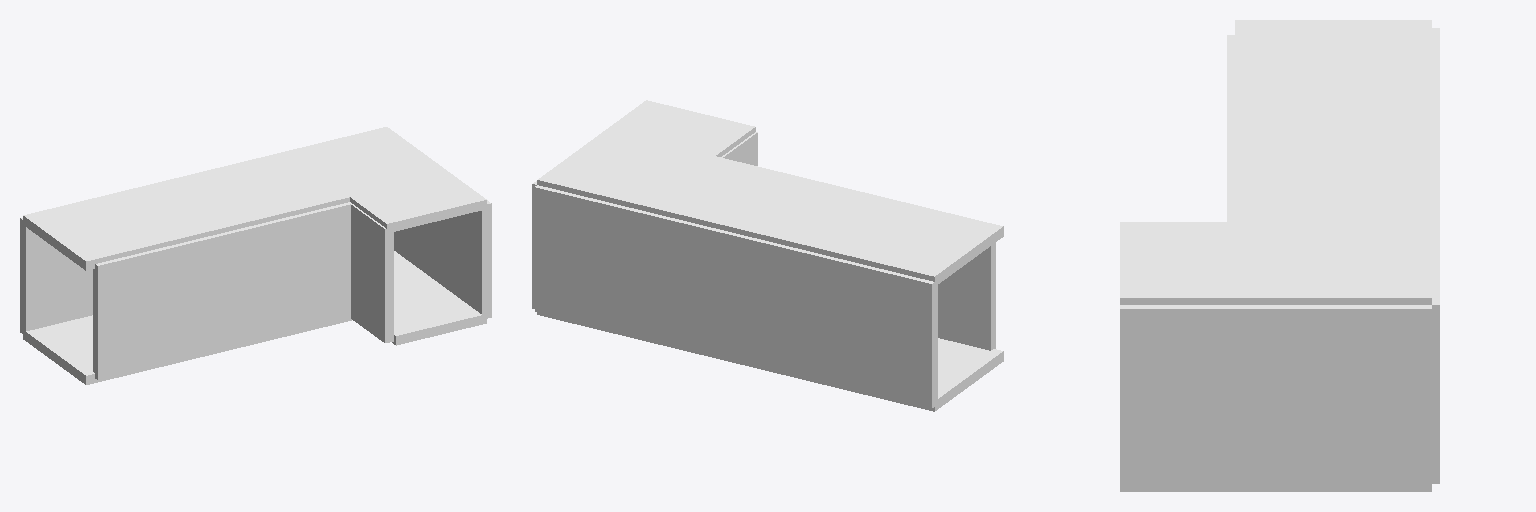
The robot description file, URDF, robot "pipe":
<?xml version="1.0"?>
<robot name="pipe">

  <material name="transparent_white">
      <color rgba="1.0 1.0 1.0 0.7"/>
  </material>

  <material name="red">
      <color rgba="1.0 0.0 0.0 1.0"/>
  </material>

  <link name="pipe">
    <!-- Bottom wall -->
    <visual>
      <origin xyz="0 0 0" rpy="0 0 0"/>
      <geometry>
        <box size="0.4 0.12 0.01"/>
      </geometry>
      <material name="transparent_white"/>
    </visual>
    <collision>
      <origin xyz="0 0 0" rpy="0 0 0"/>
      <geometry>
        <box size="0.4 0.12 0.01"/>
      </geometry>
    </collision>
    
    <!-- Top wall -->
    <visual>
      <origin xyz="0 0 0.12" rpy="0 0 0"/>
      <geometry>
        <box size="0.4 0.12 0.01"/>
      </geometry>
      <material name="transparent_white"/>
    </visual>
    <collision>
      <origin xyz="0 0 0.12" rpy="0 0 0"/>
      <geometry>
        <box size="0.4 0.12 0.01"/>
      </geometry>
    </collision>
    
    <!-- Left wall -->
    <visual>
      <origin xyz="0 0.06 0.06" rpy="0 0 0"/>
      <geometry>
        <box size="0.4 0.01 0.12"/>
      </geometry>
      <material name="transparent_white"/>
    </visual>
    <collision>
      <origin xyz="0 0.06 0.06" rpy="0 0 0"/>
      <geometry>
        <box size="0.4 0.01 0.12"/>
      </geometry>
    </collision>
    
    <!-- Right wall -->
    <visual>
      <origin xyz="-0.05 -0.06 0.06" rpy="0 0 0"/>
      <geometry>
        <box size="0.28 0.01 0.12"/>
      </geometry>
      <material name="transparent_white"/>
    </visual>
    <collision>
      <origin xyz="-0.05 -0.06 0.06" rpy="0 0 0"/>
      <geometry>
        <box size="0.28 0.01 0.12"/>
      </geometry>
    </collision>
    
    <!-- Positive X End wall (blocking the opening) -->
    <visual>
      <origin xyz="0.2 0 0.06" rpy="0 0 0"/>
      <geometry>
        <box size="0.01 0.12 0.12"/>
      </geometry>
      <material name="transparent_white"/>
    </visual>
    <collision>
      <origin xyz="0.2 0 0.06" rpy="0 0 0"/>
      <geometry>
        <box size="0.01 0.12 0.12"/>
      </geometry>
    </collision>
    
    <inertial>
      <mass value="1.0"/>
      <inertia ixx="0.01" ixy="0.0" ixz="0.0" iyy="0.01" iyz="0.0" izz="0.01"/>
    </inertial>
  </link>
  
  <!-- Extension pipe for L-shape -->
  <link name="extension">
    <!-- Bottom wall -->
    <visual>
      <origin xyz="0 -0.035 0" rpy="0 0 0"/>
      <geometry>
        <box size="0.1 0.07 0.01"/>
      </geometry>
      <material name="transparent_white"/>
    </visual>
    <collision>
      <origin xyz="0 -0.035 0" rpy="0 0 0"/>
      <geometry>
        <box size="0.1 0.07 0.01"/>
      </geometry>
    </collision>
    
    <!-- Top wall -->
    <visual>
      <origin xyz="-0.005 -0.035 0.12" rpy="0 0 0"/>
      <geometry>
        <box size="0.11 0.07 0.01"/>
      </geometry>
      <material name="transparent_white"/>
    </visual>
    <collision>
      <origin xyz="-0.005 -0.035 0.12" rpy="0 0 0"/>
      <geometry>
        <box size="0.11 0.07 0.01"/>
      </geometry>
    </collision>
    
    <!-- Left wall -->
    <visual>
      <origin xyz="0.05 -0.035 0.06" rpy="0 0 0"/>
      <geometry>
        <box size="0.01 0.07 0.12"/>
      </geometry>
      <material name="transparent_white"/>
    </visual>
    <collision>
      <origin xyz="0.05 -0.035 0.06" rpy="0 0 0"/>
      <geometry>
        <box size="0.01 0.07 0.12"/>
      </geometry>
    </collision>
    
    <!-- Right wall -->
    <visual>
      <origin xyz="-0.057 -0.035 0.06" rpy="0 0 0"/>
      <geometry>
        <box size="0.01 0.07 0.12"/>
      </geometry>
      <material name="transparent_white"/>
    </visual>
    <collision>
      <origin xyz="-0.057 -0.035 0.06" rpy="0 0 0"/>
      <geometry>
        <box size="0.01 0.07 0.12"/>
      </geometry>
    </collision>
    
    <!-- End wall (at negative Y end) -->
    <!-- <visual>
      <origin xyz="0 -0.07 0.06" rpy="0 0 0"/>
      <geometry>
        <box size="0.1 0.01 0.12"/>
      </geometry>
      <material name="transparent_white"/>
    </visual>
    <collision>
      <origin xyz="0 -0.07 0.06" rpy="0 0 0"/>
      <geometry>
        <box size="0.1 0.01 0.12"/>
      </geometry>
    </collision>
    
    <inertial>
      <mass value="0.5"/>
      <inertia ixx="0.005" ixy="0.0" ixz="0.0" iyy="0.005" iyz="0.0" izz="0.005"/>
    </inertial> -->
  </link>
  
  <!-- Joint to connect the extension to the main pipe -->
  <joint name="pipe_to_extension" type="fixed">
    <parent link="pipe"/>
    <child link="extension"/>
    <origin xyz="0.15 -0.06 0.0" rpy="0 0 0"/>
  </joint>

</robot>

--- What the picture shows (computed from the rendered views, not written in the file) ---
3 views of the same robot in one strip: view 1: azimuth 30°, elevation 25°; view 2: azimuth 150°, elevation 25°; view 3: azimuth 270°, elevation 25° (orthographic).
Robot: pipe — 2 links, 1 joints (1 fixed); root link pipe; default pose: every joint at zero.
Links seen in each view (by area): view 1: pipe, extension; view 2: pipe, extension; view 3: pipe, extension.
Link boxes in pixels (left/top/right/bottom): pipe: left=20, top=127, right=449, bottom=384; extension: left=350, top=173, right=491, bottom=345; pipe: left=532, top=130, right=1003, bottom=411; extension: left=606, top=100, right=757, bottom=165; pipe: left=1227, top=20, right=1439, bottom=491; extension: left=1120, top=222, right=1234, bottom=491.
Bounding box of the posed robot: 0.405 × 0.195 × 0.13 m (x, y, z).
Geometry: primitives only (box / cylinder / sphere), no mesh files.
